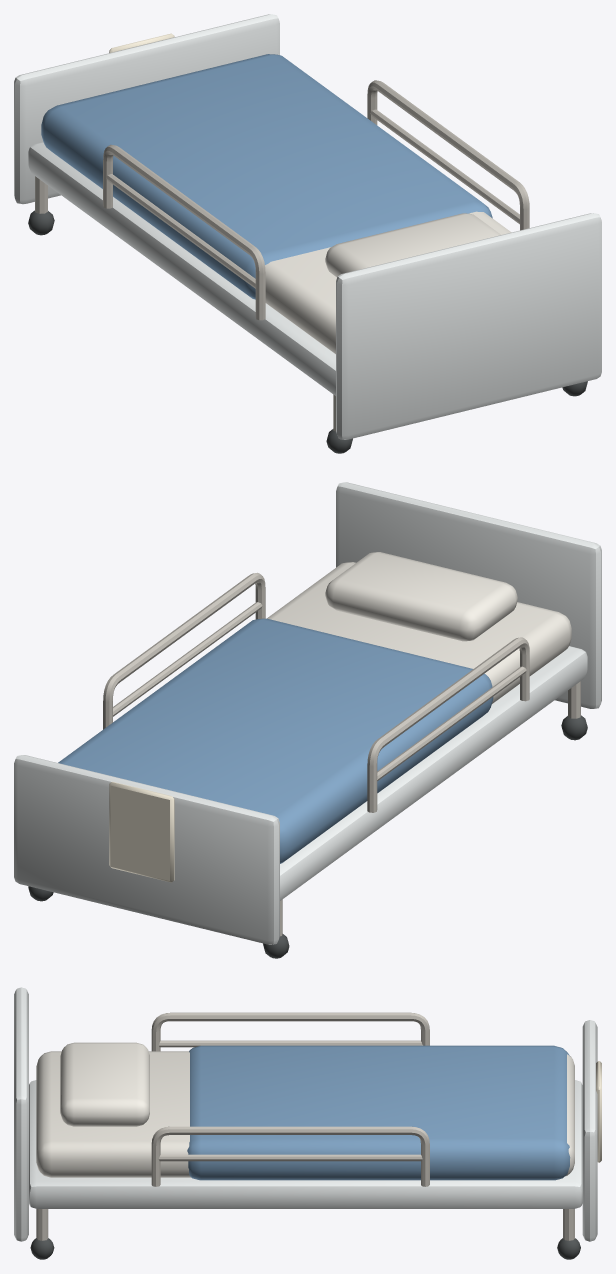
The model's file is infirmary_bed.glb.
3 renders of one model, top to bottom at view 1: azimuth 30°, elevation 25°; view 2: azimuth 150°, elevation 25°; view 3: azimuth 270°, elevation 25°, orthographic. The views are drawn at different scales.
Parts seen in each view (by area): view 1: hospital, plastic, sheet, steel, rubber; view 2: hospital, plastic, sheet, steel, paper, rubber; view 3: plastic, hospital, sheet, steel, rubber, paper.
Boxes of the visible parts, box(x1,y1,x2,y2) form: hospital: box(14, 14, 601, 439); plastic: box(41, 54, 492, 299); sheet: box(265, 211, 511, 354); steel: box(35, 80, 529, 431); rubber: box(28, 210, 587, 453); hospital: box(14, 482, 601, 944); plastic: box(58, 618, 493, 863); sheet: box(267, 552, 571, 703); steel: box(103, 572, 580, 936); paper: box(109, 781, 174, 882); rubber: box(28, 715, 587, 958); plastic: box(187, 1045, 570, 1180); hospital: box(14, 987, 597, 1241); sheet: box(36, 1042, 574, 1177); steel: box(36, 1012, 574, 1240); rubber: box(30, 1238, 580, 1259); paper: box(596, 1061, 601, 1162).
Bounding box in the file's own units: 0.93 × 0.615 × 1.96.
